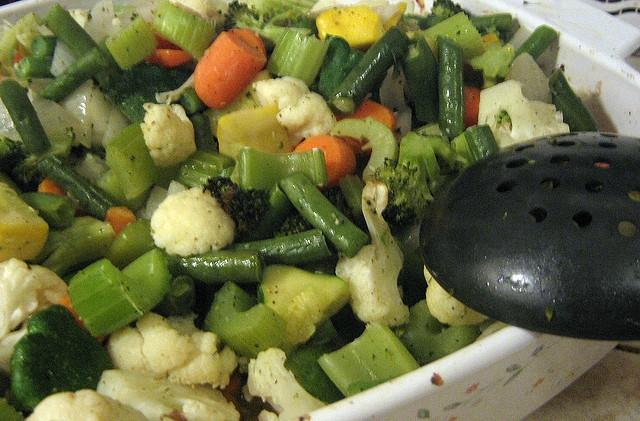carrot: (194, 26, 268, 110), (296, 134, 356, 189), (336, 99, 398, 134), (38, 176, 81, 216), (58, 295, 92, 335), (144, 48, 194, 67), (105, 206, 136, 234), (464, 84, 480, 130)
cauliflower: (336, 180, 411, 326), (110, 311, 238, 389), (96, 368, 240, 421), (478, 79, 570, 150), (150, 186, 236, 260), (246, 347, 330, 420), (253, 76, 337, 146), (0, 258, 67, 337), (423, 264, 490, 326), (26, 389, 149, 421), (140, 104, 197, 168), (165, 0, 227, 32)
celery: (66, 244, 172, 334), (315, 320, 420, 398), (205, 281, 288, 359), (394, 299, 482, 366), (36, 215, 114, 278), (330, 116, 399, 183), (264, 26, 333, 90), (411, 10, 486, 68), (150, 1, 217, 63), (104, 121, 156, 198), (238, 146, 328, 190), (106, 15, 158, 72), (176, 148, 236, 192), (106, 219, 155, 270), (468, 40, 516, 89)
green bean: (280, 170, 370, 257), (328, 25, 410, 116), (38, 153, 122, 219), (24, 217, 116, 276), (37, 46, 110, 103), (231, 227, 334, 265), (309, 34, 366, 102), (0, 78, 51, 154), (38, 3, 106, 59), (166, 249, 266, 285), (548, 68, 601, 132), (402, 38, 438, 123), (246, 184, 294, 240), (438, 38, 464, 137), (19, 192, 75, 230), (514, 26, 558, 60), (464, 125, 500, 162), (14, 56, 56, 80), (468, 14, 512, 32), (180, 88, 208, 115), (31, 33, 58, 60)
